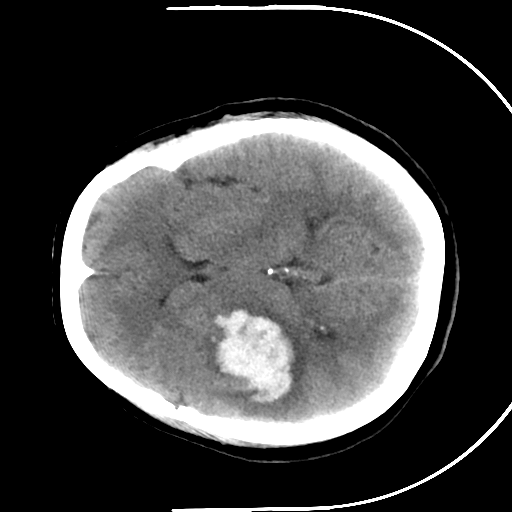a: (193, 284, 317, 426)
